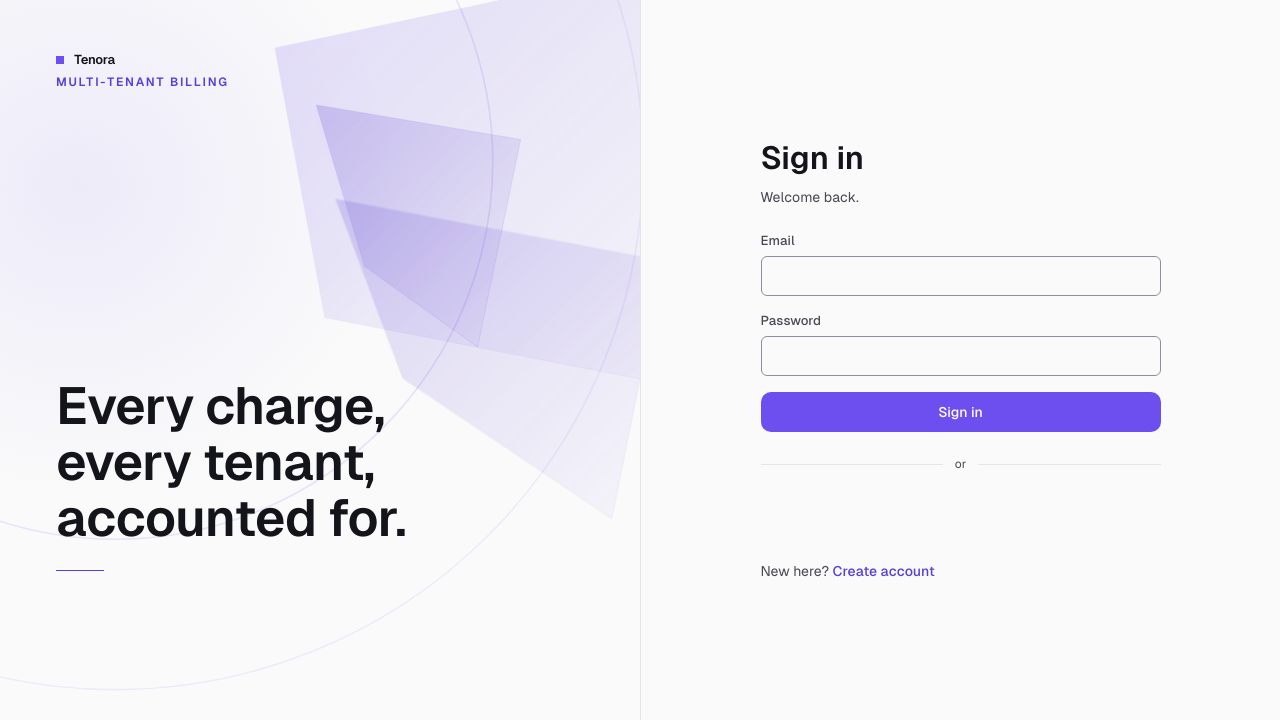
LoginPage › signs in and lands on workspace selection on success
The width and height of the screenshot is (1280, 720).
Expected: the heading "Sign in" is shown, [760,140,864,176]
In the field labelled "Email": {"x": 960, "y": 276} [760,256,1160,296], type "user@example.com"
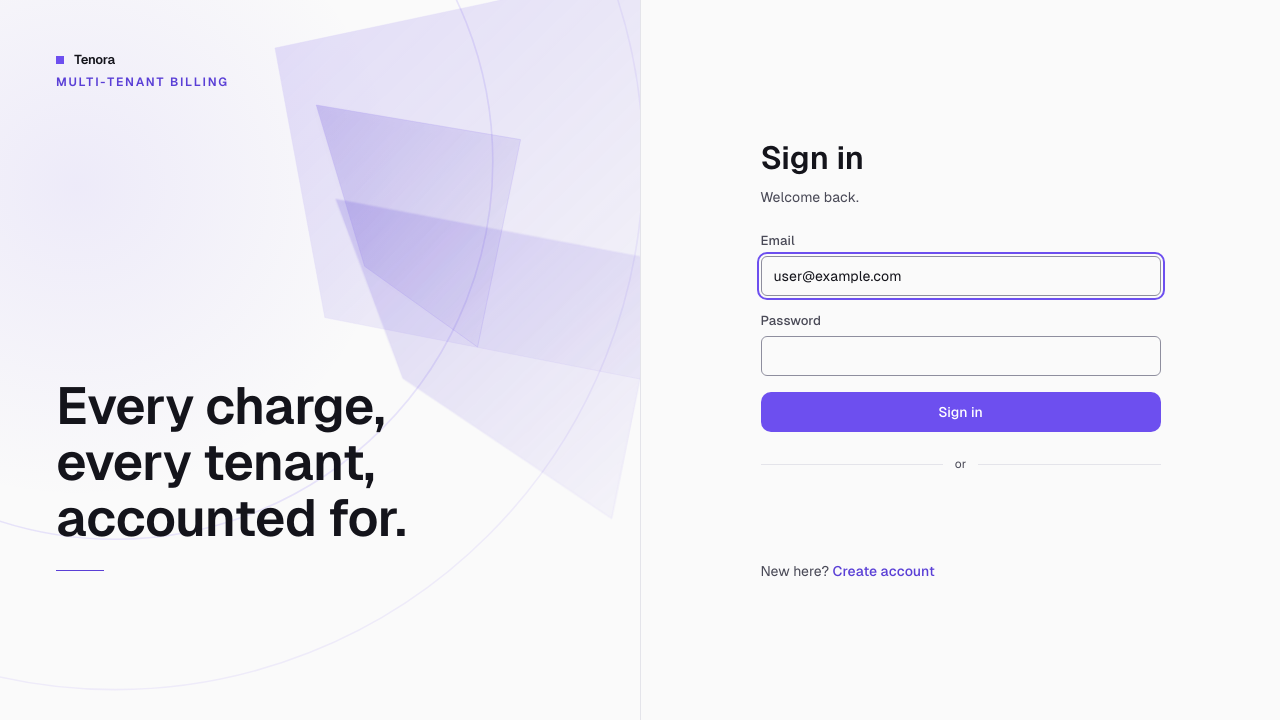
In the password field labelled "Password": {"x": 960, "y": 356} [760,336,1160,376], type "correct horse"
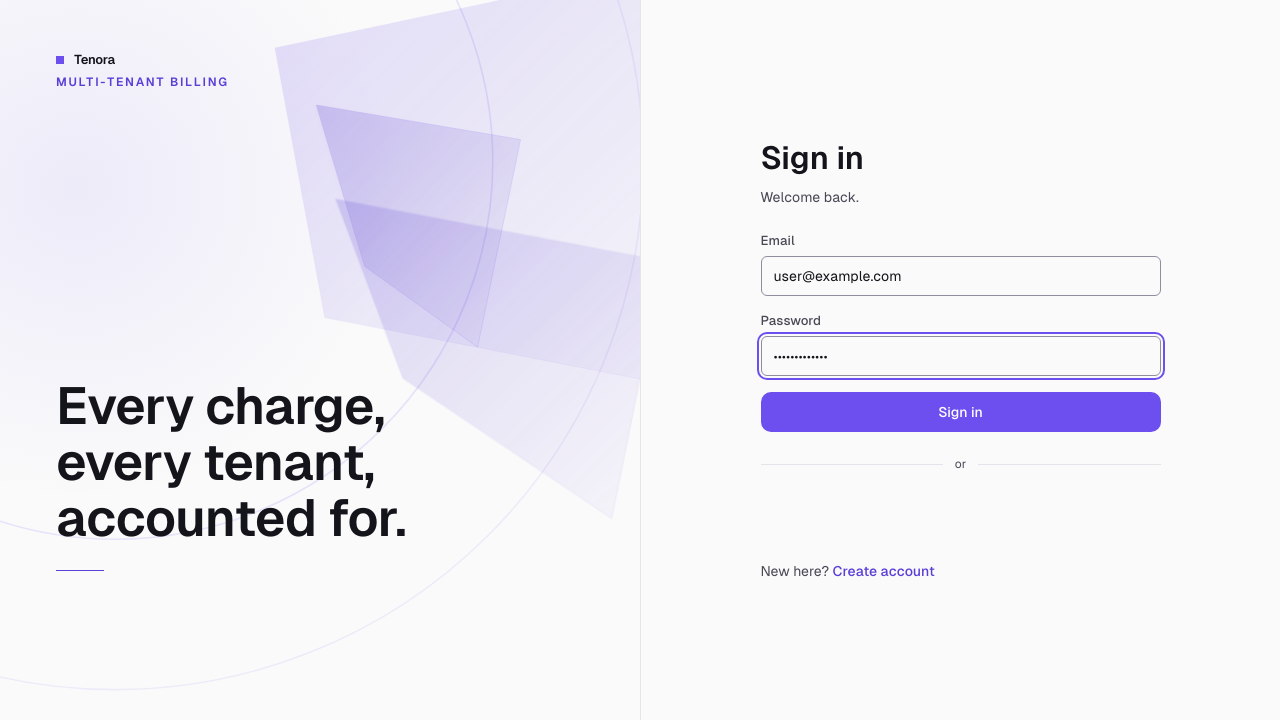
Click the button "Sign in": {"x": 960, "y": 412} [760,392,1160,432]
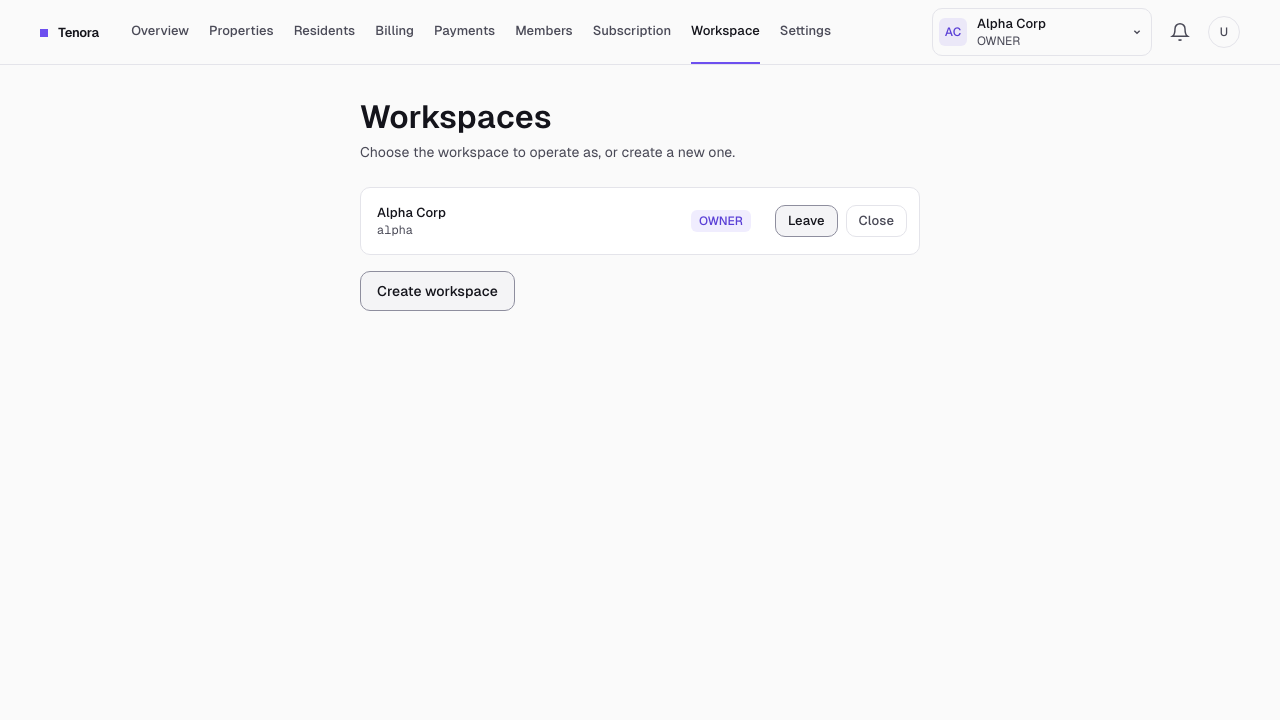
Result: the heading "Workspaces" is shown at [360,99,552,135]
